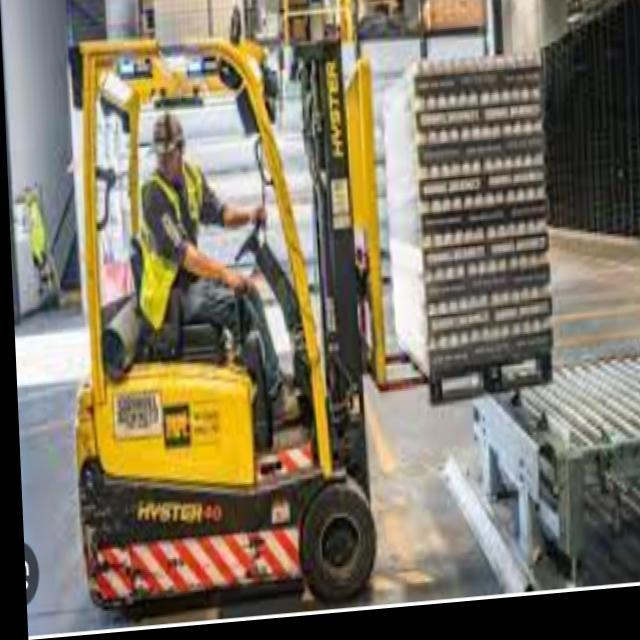shoes: (260, 370, 310, 426)
vest: (132, 153, 214, 339)
